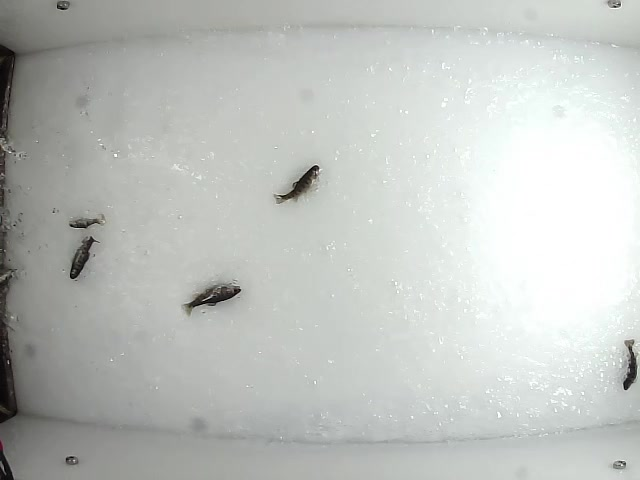fish: (179, 281, 242, 316), (273, 165, 321, 205), (68, 232, 101, 280), (622, 335, 640, 393), (67, 212, 108, 230)
